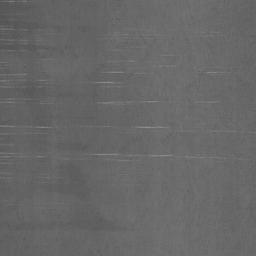Waist folding: (91, 58, 219, 106), (0, 123, 256, 136), (0, 24, 79, 60), (0, 72, 70, 106), (78, 150, 256, 163), (0, 150, 69, 180), (201, 68, 229, 76), (81, 229, 116, 233), (0, 0, 27, 5)
